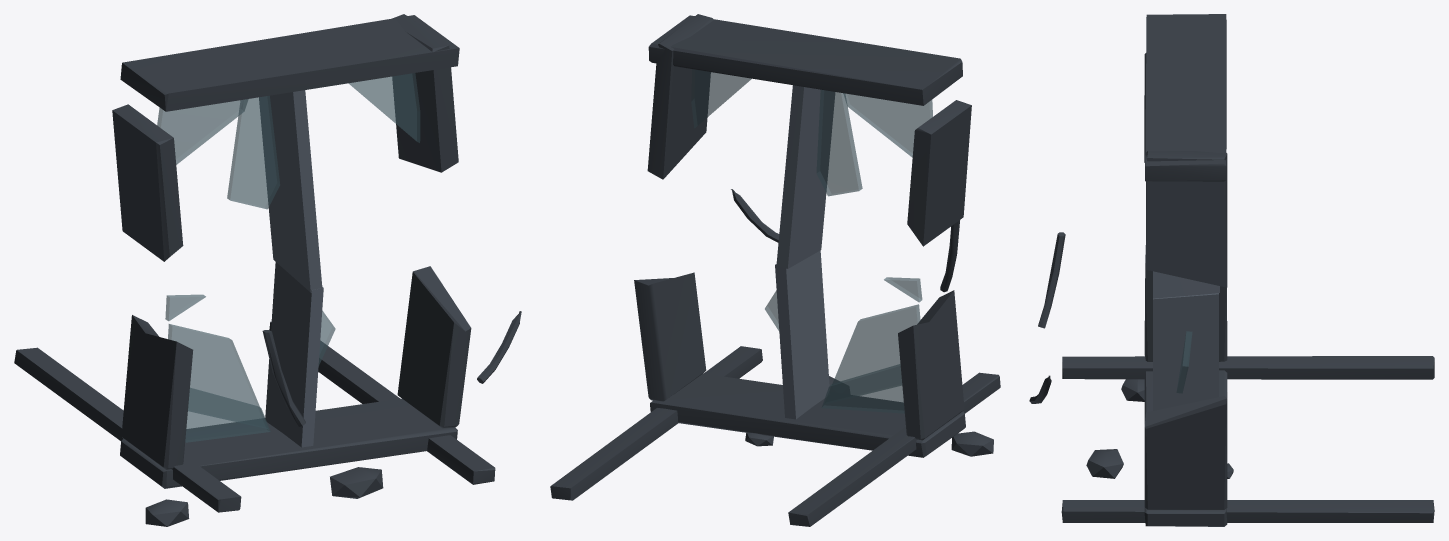
Rendered from shr_deb_generic_panel_glass_b.glb.
3 views of the same model, side by side, from view 1: azimuth 30°, elevation 25°; view 2: azimuth 150°, elevation 25°; view 3: azimuth 270°, elevation 25° (orthographic). The views are drawn at different scales.
Visible parts, largest first — view 1: husk, frag_01, frag_02; view 2: husk, frag_01, frag_02; view 3: husk, frag_02, frag_01.
Part boxes in pixels (x1,y1,x2,y2): husk: (14, 262, 521, 526); frag_01: (112, 14, 458, 292); frag_02: (120, 15, 459, 164); husk: (550, 189, 1000, 526); frag_01: (647, 14, 971, 268); frag_02: (648, 15, 962, 157); husk: (1029, 232, 1434, 526); frag_02: (1145, 14, 1226, 181); frag_01: (1144, 53, 1227, 298).
Size of the model in its own units: 0.678 by 0.8294 by 0.7824.
